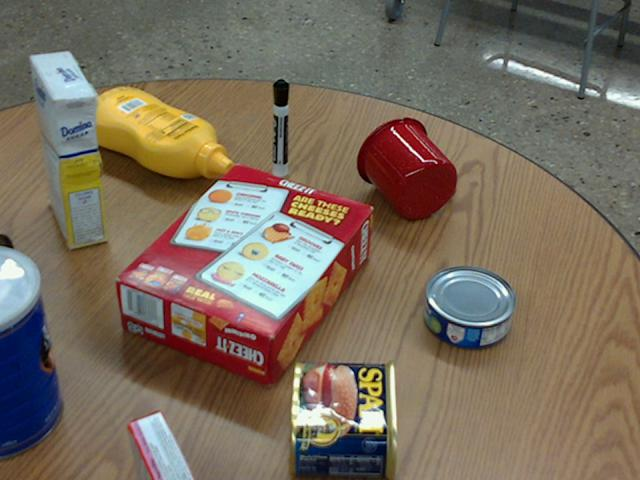cracker_box: (116, 166, 372, 384)
gelatin_box: (126, 408, 193, 479)
large_marker: (272, 79, 288, 175)
master_chef_can: (0, 245, 60, 456)
mug: (356, 117, 457, 219)
mustard_bottle: (81, 88, 232, 177)
potted_meat_can: (288, 360, 395, 479)
sugar_box: (32, 51, 104, 247)
tomato_soup_can: (0, 232, 13, 295)
tuna_fish_can: (423, 266, 515, 348)
